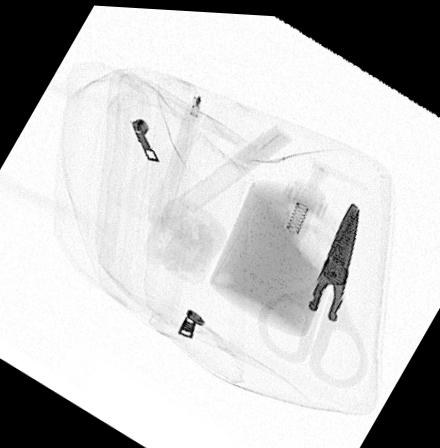Scissors: (248, 193, 374, 389)
